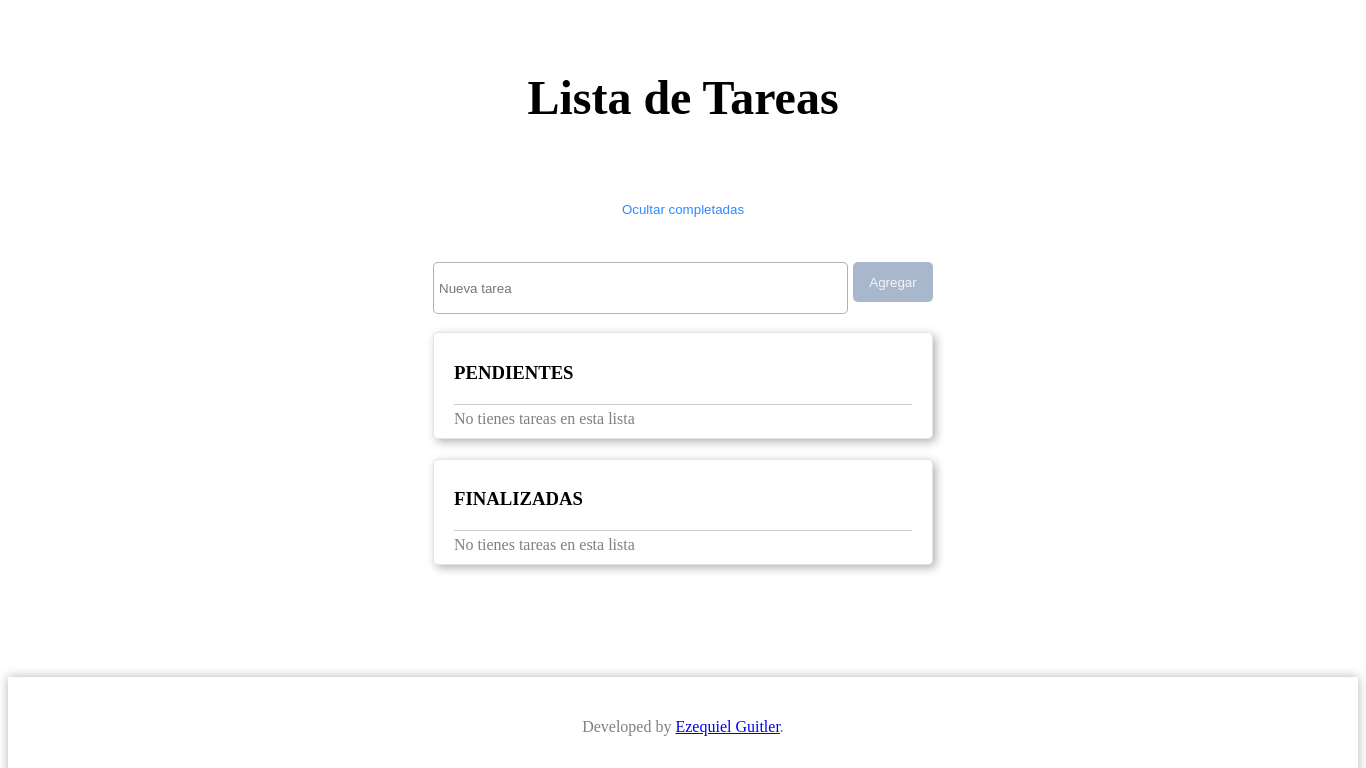
we can edit the task description successfuly
Type "This is a description" into the field with placeholder "Nueva tarea".
click(640, 288); type("This is a description")  # box [433,262,848,314]
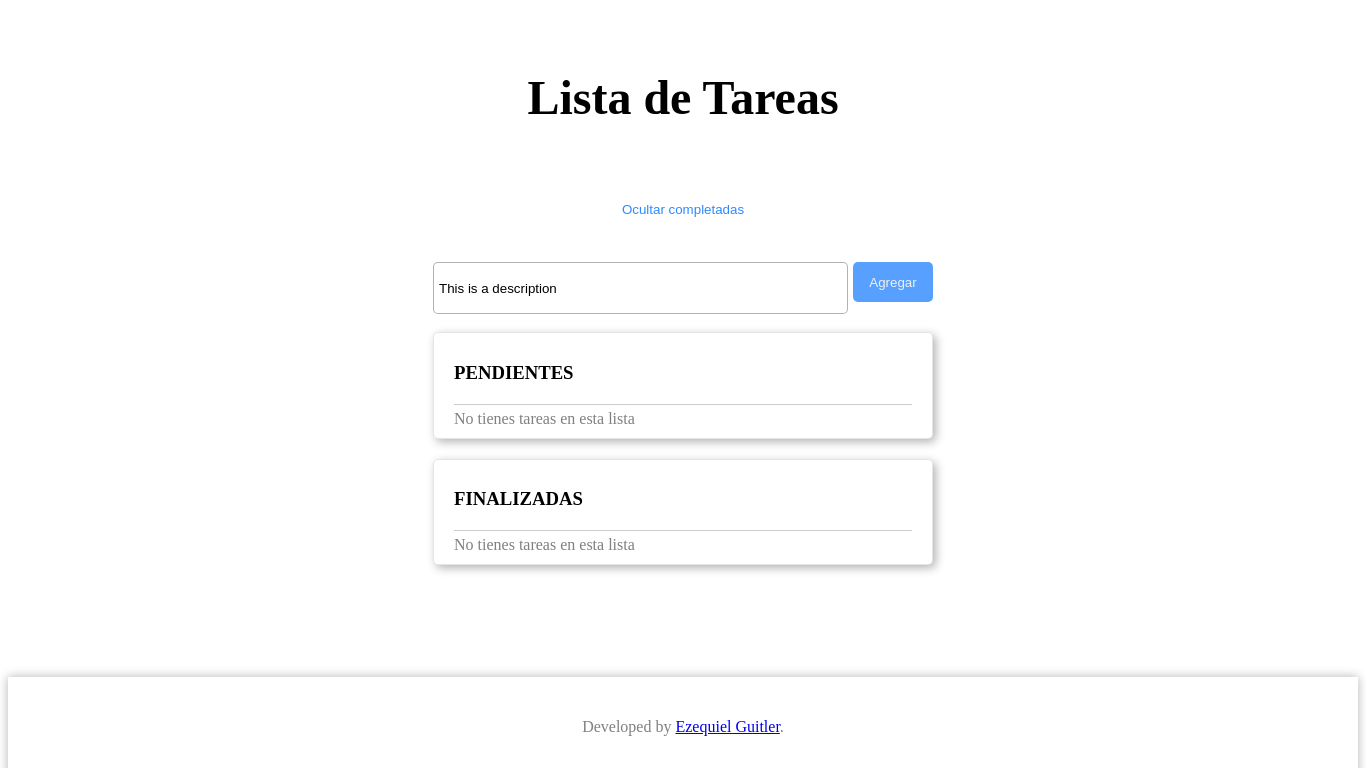
Click the button "Agregar".
click(893, 282)  # box [853,262,933,302]
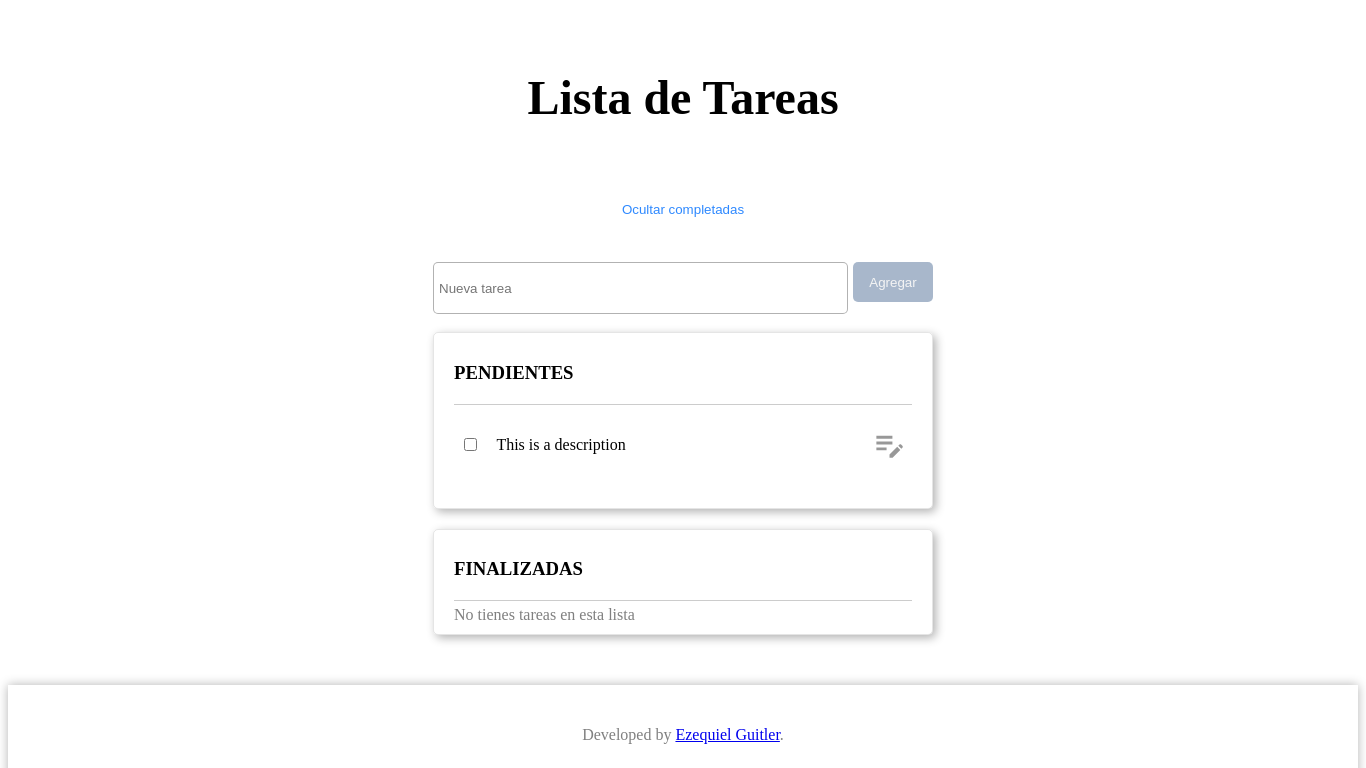
Click the element titled "Editar tarea".
click(890, 445)  # box [872,427,907,462]
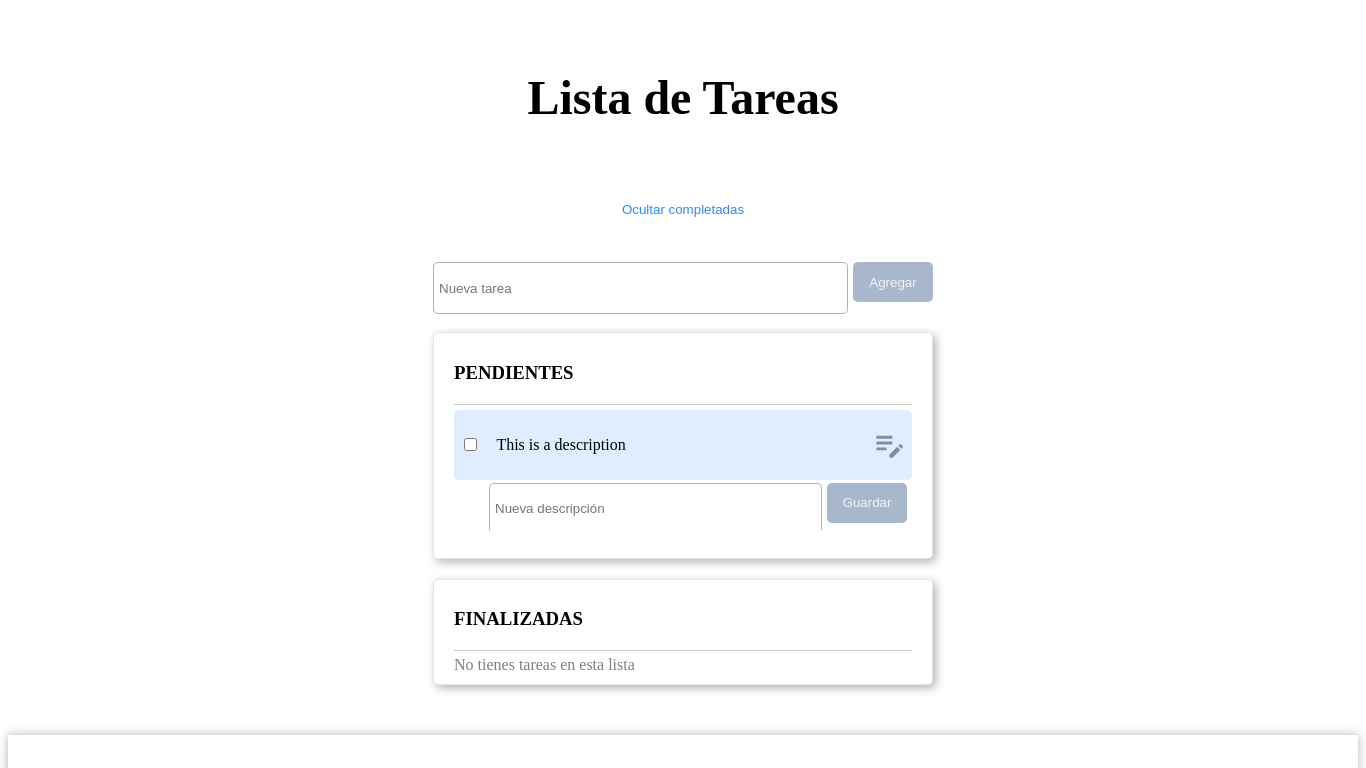
Type "here is another message" into the field with placeholder "Nueva descripción".
click(656, 509); type("here is another message")  # box [489,483,822,535]
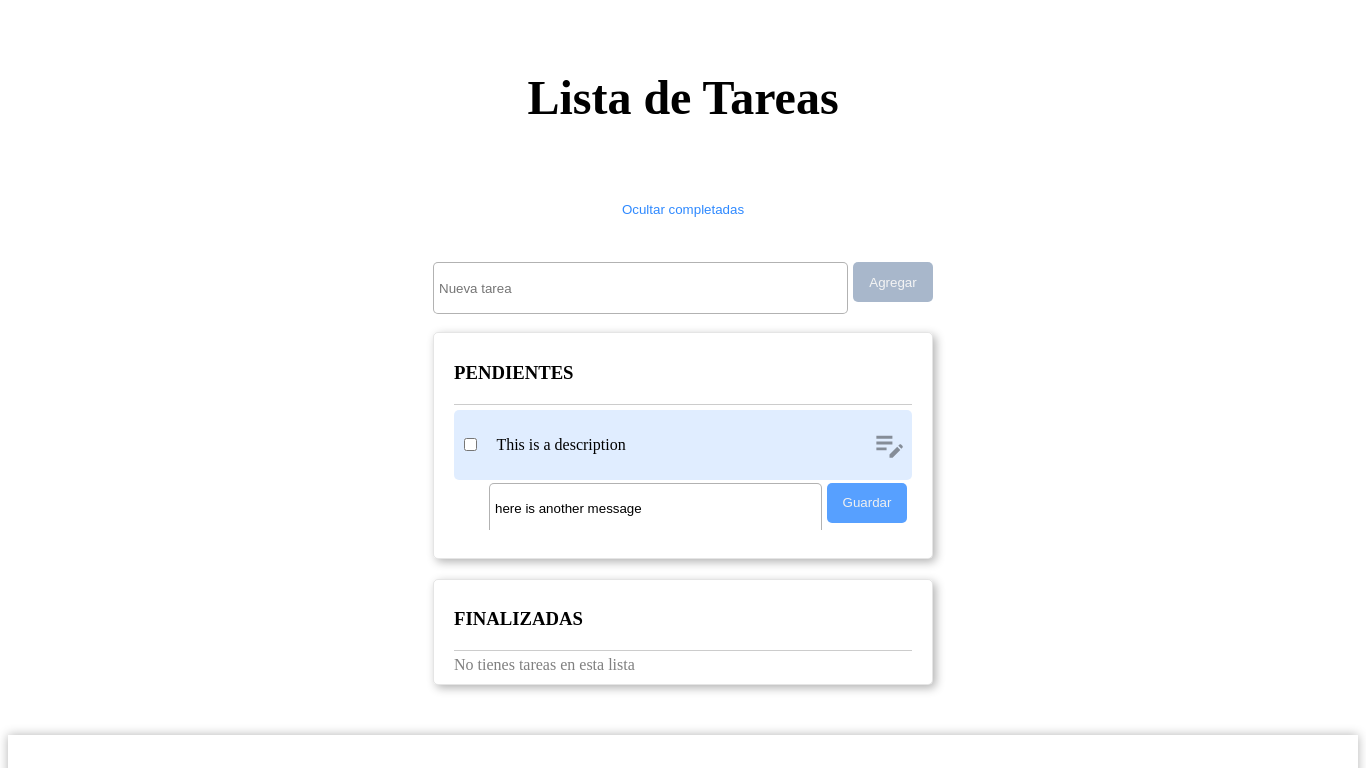
Click the button "Guardar".
click(867, 503)  # box [827,483,907,523]
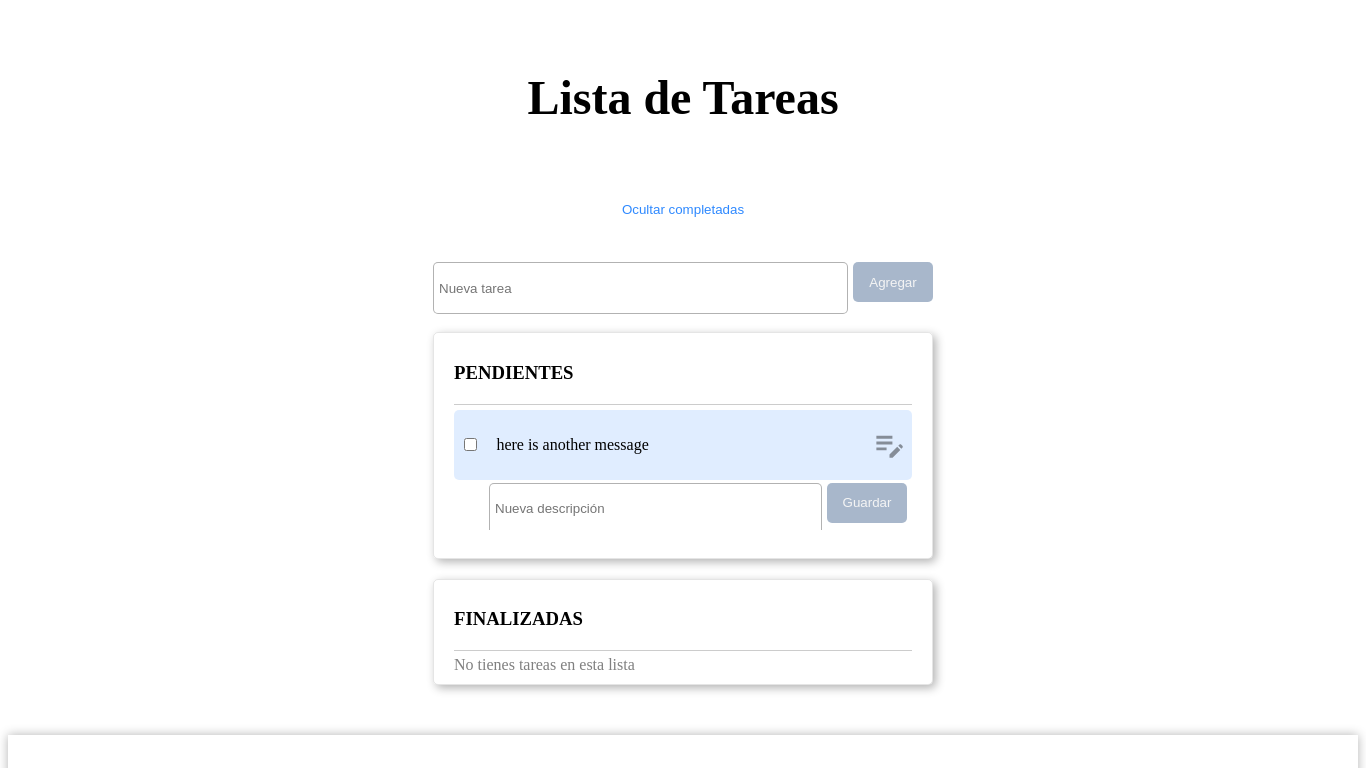
expect the element with test id "task" no longer shows "This is a description": met, box [454,410,912,530]
expect the element with test id "task" shows "here is another message": met, box [496,436,649,453]
